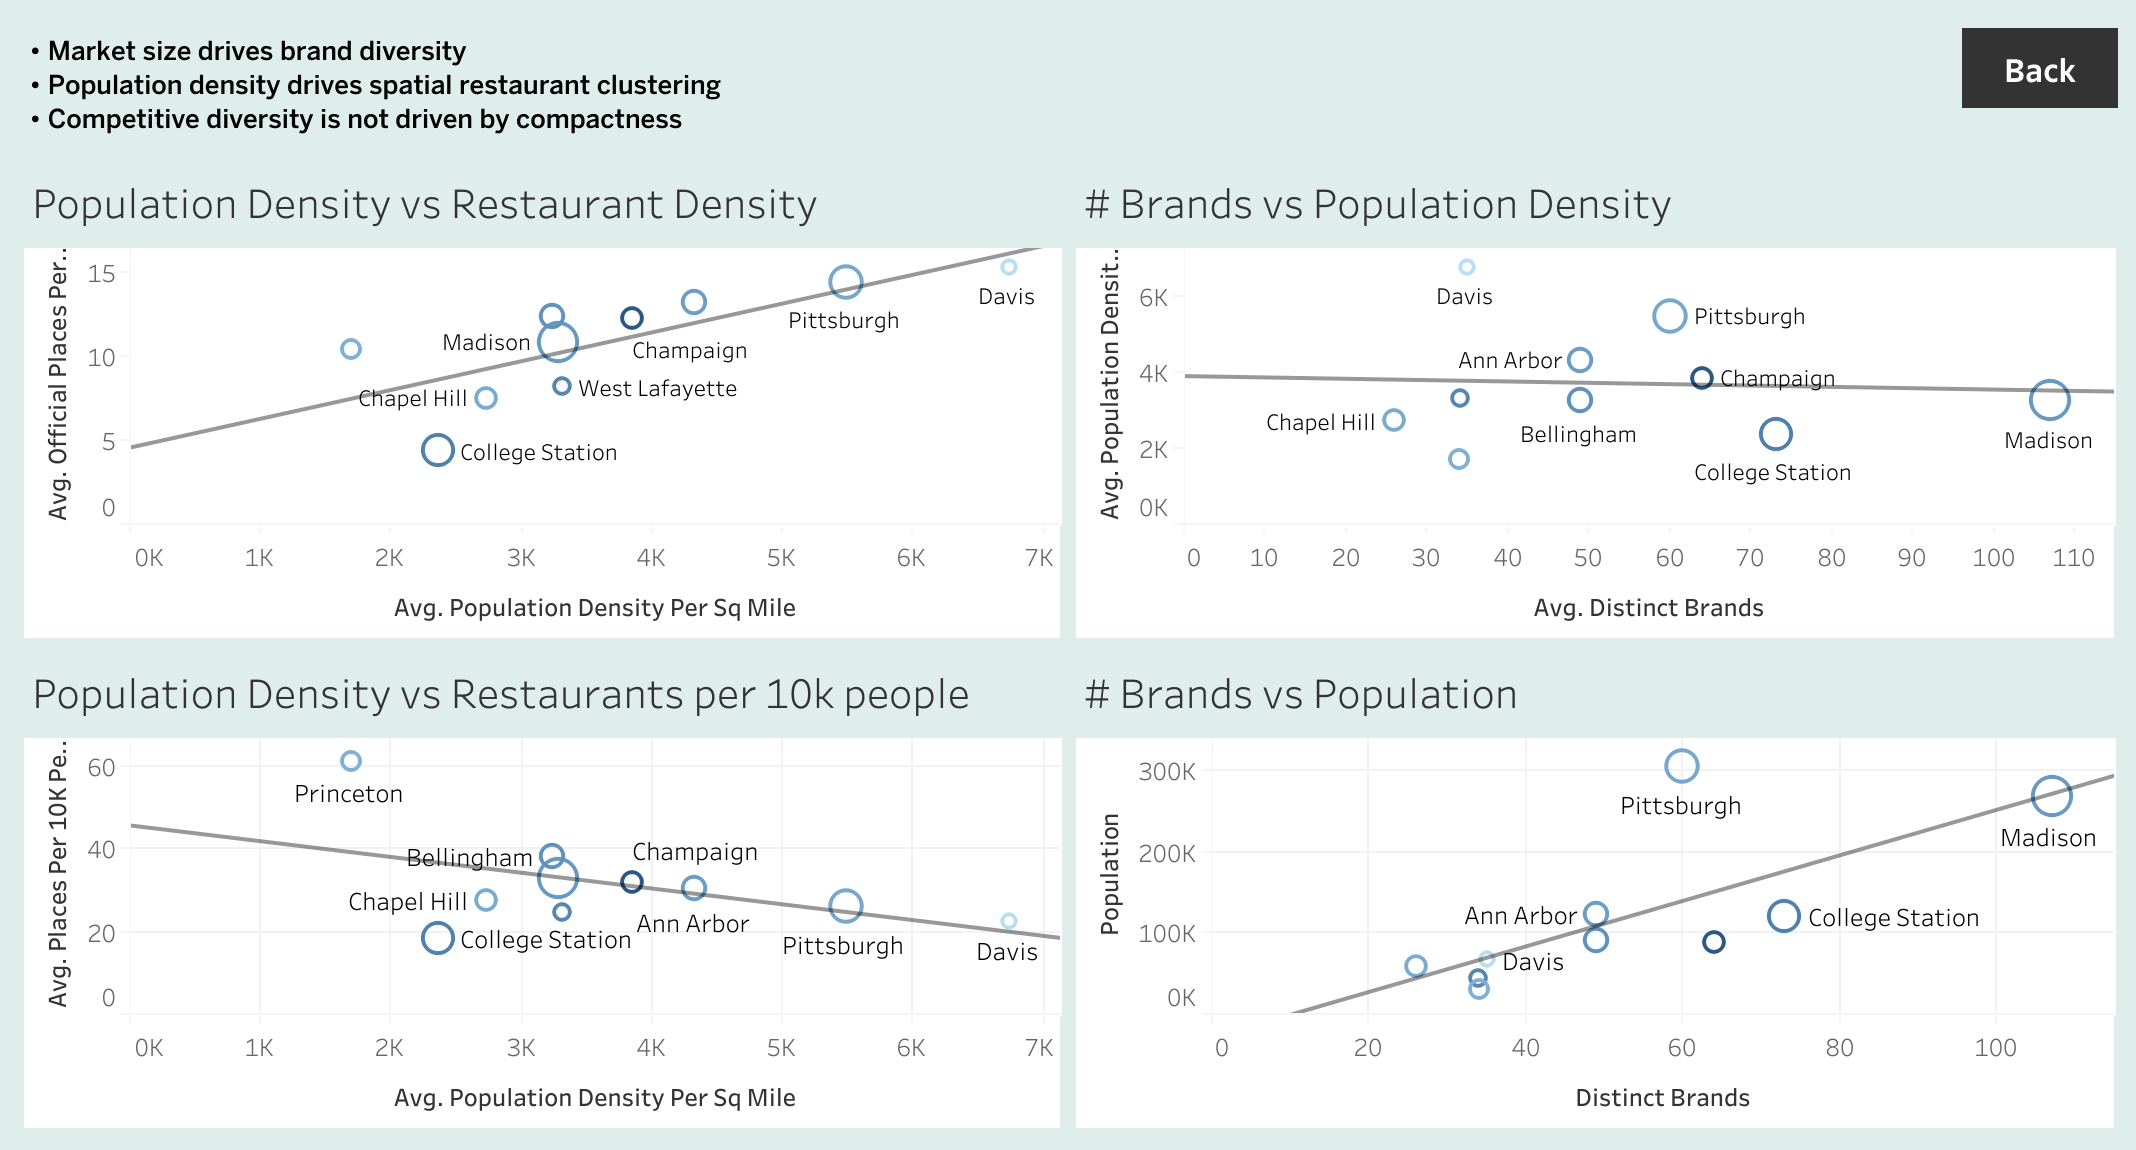

What the dashboard file says about the page in this screenshot:
{"tool":"tableau","page":{"name":"Compactness Dashboard","canvas":[1069,576],"ordinal":0},"visuals":[{"type":"text","box":[8,8,1053,69]},{"type":"dashboard-object","box":[981,14,78,40]},{"type":"worksheet","title":"Population Density vs Restaurant Density","mark":"Automatic","rows":["official_places_per_sq_mile"],"cols":["population_density_per_sq_mile"],"box":[8,77,525.9,245.5]},{"type":"worksheet","title":"# Brands vs Population Density","mark":"Automatic","rows":["population_density_per_sq_mile"],"cols":["distinct_brands"],"box":[533.9,77,527.1,245.5]},{"type":"worksheet","title":"Population Density vs Restaurants per 10k people","mark":"Automatic","rows":["places_per_10k_people"],"cols":["population_density_per_sq_mile"],"box":[8,322.5,525.8,245.5]},{"type":"worksheet","title":"# Brands vs Population","mark":"Automatic","rows":["population"],"cols":["distinct_brands"],"box":[533.8,322.5,527.2,245.5]}]}

Visuals, with their boxes in screenshot pixels (x1, y1, x2, y2), scaled from the page's 1069x576 canvas onto the 2136x1150 screenshot:
text: l=16, t=16, r=2120, b=154
dashboard-object: l=1960, t=28, r=2116, b=108
"Population Density vs Restaurant Density" worksheet: l=16, t=154, r=1067, b=644
"# Brands vs Population Density" worksheet: l=1067, t=154, r=2120, b=644
"Population Density vs Restaurants per 10k people" worksheet: l=16, t=644, r=1067, b=1134
"# Brands vs Population" worksheet: l=1067, t=644, r=2120, b=1134
